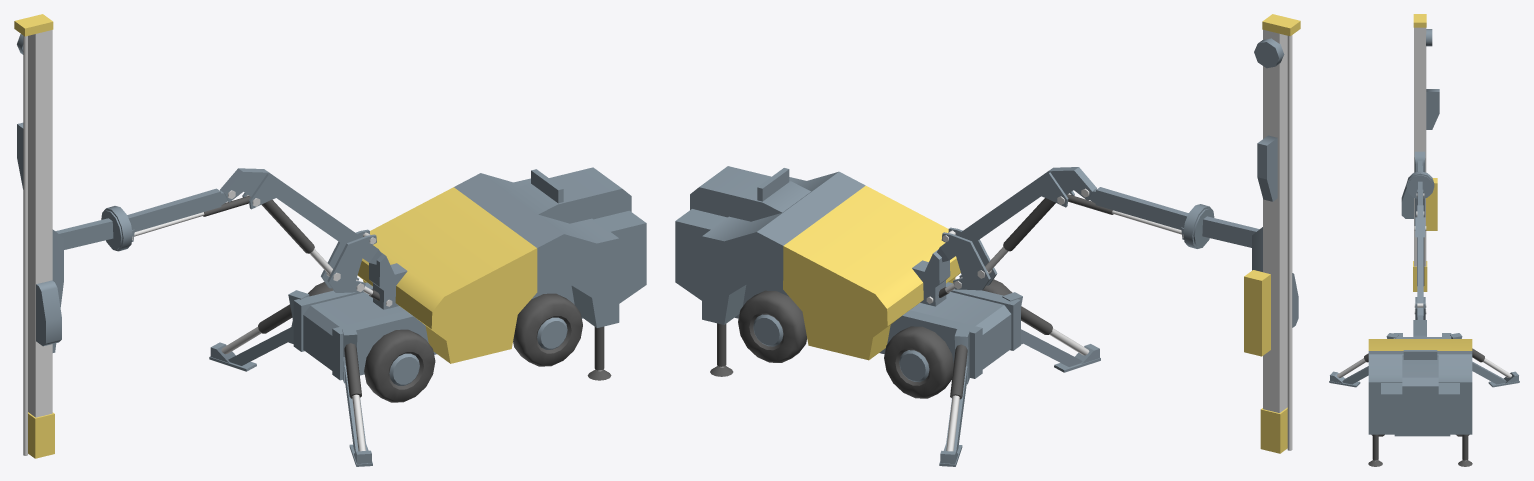
The model's file is FlexiRoc_T20_1600_v.fbx.
3 renders of one model, left to right at view 1: azimuth 30°, elevation 25°; view 2: azimuth 150°, elevation 25°; view 3: azimuth 270°, elevation 25°, orthographic. The views are drawn at different scales.
Parts seen in each view (by area): view 1: FlexiRoc T20; view 2: FlexiRoc T20; view 3: FlexiRoc T20.
Boxes of the visible parts, left/top/right/bottom form: FlexiRoc T20: left=14, top=14, right=646, bottom=466; FlexiRoc T20: left=675, top=14, right=1300, bottom=466; FlexiRoc T20: left=1329, top=14, right=1519, bottom=466.
Bounding box in the file's own units: 779 × 570 × 346.
